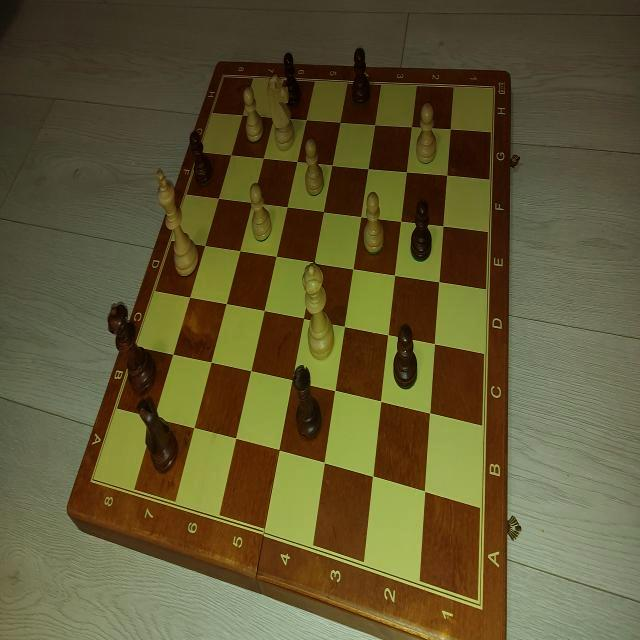chess-table-corners: (460, 568, 494, 628), (481, 70, 504, 105), (84, 460, 102, 498), (216, 64, 234, 90)
